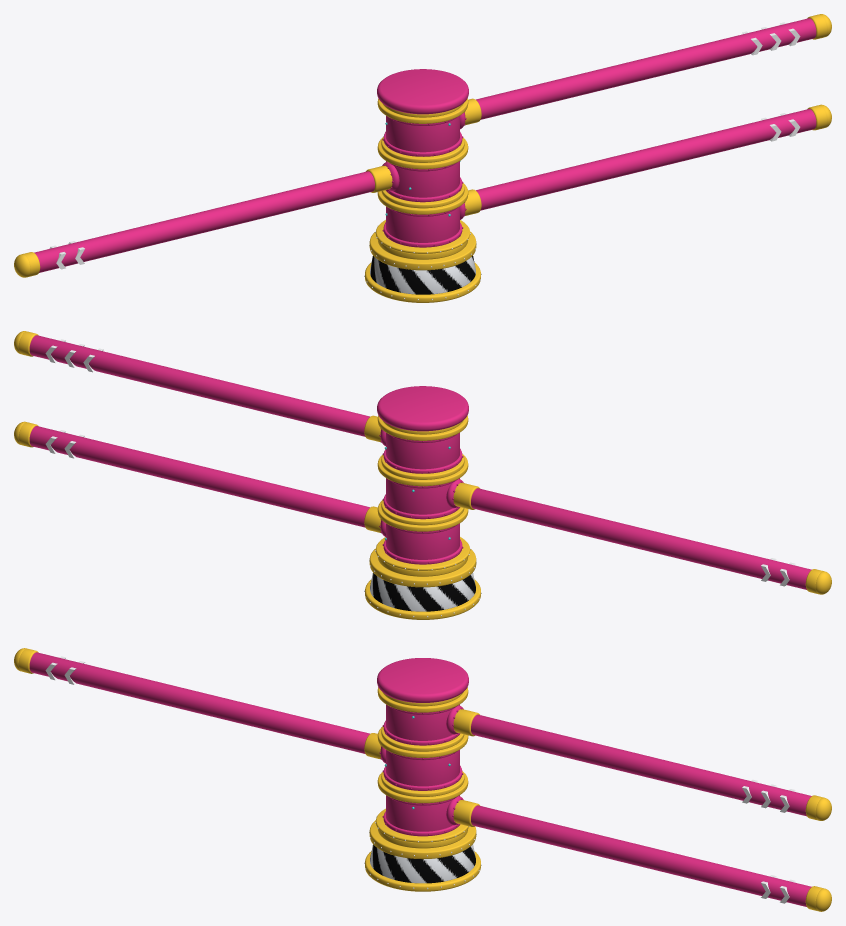
File: sweeper_3arms.glb
3 renders of one model, top to bottom at view 1: azimuth 30°, elevation 25°; view 2: azimuth 150°, elevation 25°; view 3: azimuth 330°, elevation 25°, orthographic.
Parts seen in each view (by area): view 1: Low_Arm_visual, Mid_Arm_visual, High_Arm_visual, Tower_TopCap_visual, Base_HazardDrum_visual, Low_Drum_visual, High_Drum_visual, Mid_Drum_visual, Base_StackDisc_0_visual, Base_GroundRing_visual, Base_StackDisc_2_visual, Tower_RingB_Lower_visual (+5 smaller); view 2: Low_Arm_visual, Mid_Arm_visual, High_Arm_visual, Tower_TopCap_visual, Base_HazardDrum_visual, Low_Drum_visual, High_Drum_visual, Mid_Drum_visual, Base_StackDisc_0_visual, Base_GroundRing_visual, Base_StackDisc_2_visual, Tower_RingB_Lower_visual (+5 smaller); view 3: Mid_Arm_visual, Low_Arm_visual, High_Arm_visual, Tower_TopCap_visual, Base_HazardDrum_visual, Mid_Drum_visual, High_Drum_visual, Low_Drum_visual, Base_StackDisc_0_visual, Base_GroundRing_visual, Base_StackDisc_2_visual, Tower_RingA_Lower_visual (+5 smaller).
Boxes of the visible parts, x1=… form: Low_Arm_visual: x1=476, y1=109, x2=816, y2=210; Mid_Arm_visual: x1=34, y1=171, x2=374, y2=272; High_Arm_visual: x1=476, y1=18, x2=816, y2=119; Tower_TopCap_visual: x1=377, y1=69, x2=468, y2=114; Base_HazardDrum_visual: x1=370, y1=256, x2=475, y2=294; Low_Drum_visual: x1=386, y1=206, x2=459, y2=242; High_Drum_visual: x1=386, y1=116, x2=459, y2=152; Mid_Drum_visual: x1=386, y1=161, x2=459, y2=197; Base_StackDisc_0_visual: x1=369, y1=231, x2=476, y2=270; Base_GroundRing_visual: x1=365, y1=262, x2=480, y2=302; Base_StackDisc_2_visual: x1=375, y1=220, x2=470, y2=253; Tower_RingB_Lower_visual: x1=377, y1=137, x2=468, y2=169; Low_Arm_visual: x1=29, y1=426, x2=369, y2=527; Mid_Arm_visual: x1=471, y1=488, x2=811, y2=589; High_Arm_visual: x1=29, y1=335, x2=369, y2=436; Tower_TopCap_visual: x1=377, y1=386, x2=468, y2=431; Base_HazardDrum_visual: x1=370, y1=573, x2=475, y2=611; Low_Drum_visual: x1=386, y1=523, x2=459, y2=559; High_Drum_visual: x1=386, y1=433, x2=459, y2=469; Mid_Drum_visual: x1=386, y1=478, x2=459, y2=514; Base_StackDisc_0_visual: x1=369, y1=548, x2=476, y2=587; Base_GroundRing_visual: x1=365, y1=579, x2=480, y2=619; Base_StackDisc_2_visual: x1=375, y1=537, x2=470, y2=570; Tower_RingB_Lower_visual: x1=377, y1=454, x2=468, y2=486; Mid_Arm_visual: x1=29, y1=652, x2=369, y2=753; Low_Arm_visual: x1=471, y1=805, x2=811, y2=906; High_Arm_visual: x1=471, y1=714, x2=811, y2=816; Tower_TopCap_visual: x1=377, y1=658, x2=468, y2=702; Base_HazardDrum_visual: x1=370, y1=844, x2=475, y2=883; Mid_Drum_visual: x1=386, y1=750, x2=459, y2=786; High_Drum_visual: x1=386, y1=704, x2=459, y2=740; Low_Drum_visual: x1=386, y1=795, x2=459, y2=831; Base_StackDisc_0_visual: x1=369, y1=820, x2=476, y2=859; Base_GroundRing_visual: x1=365, y1=851, x2=480, y2=891; Base_StackDisc_2_visual: x1=375, y1=808, x2=468, y2=842; Tower_RingA_Lower_visual: x1=377, y1=772, x2=468, y2=803.
Size of what is drawn, in the model's own units: 11.64 by 2.62 by 1.45.
7 materials, 1 textured.
